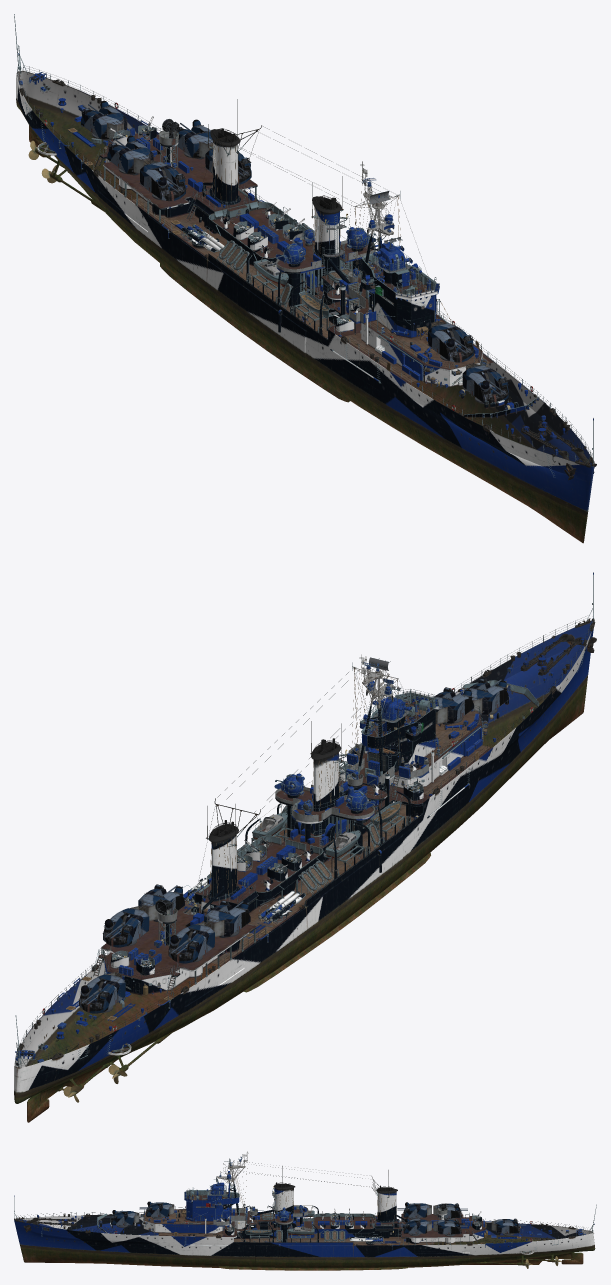
File: hms_aurora.glb
The picture shows the model from 3 angles, top to bottom: view 1: azimuth 30°, elevation 25°; view 2: azimuth 150°, elevation 25°; view 3: azimuth 270°, elevation 25°; orthographic projection. The views are drawn at different scales.
Parts seen in each view (by area): view 1: ZSC002_Huang_he_1951_bow_Huanghe_zsc002_huang_he_1951_444_0_ (×2), ZSC002_Huang_he_1951_bow_Grozovoi_rgm098_130mm_sm2_1_skinned, ZSC002_Huang_he_1951_bow_Huanghe_transparent_glass_alpha_190, ZSC002_Huang_he_1951_bow_Huanghe_zsc002_huang_he_1951_wire_4, ZSC002_Huang_he_1951_bow_Huanghe_zga051_37mm_67_v11_311_0_Hu, ZSC002_Huang_he_1951_bow_Huanghe_zm513_liferaft_type_20_10ft, ZSC002_Huang_he_1951_bow_Huanghe_zf031_svp_42_50_217_0_Huang, ZSC002_Huang_he_1951_bow_Huanghe_zf030_kdp2_4_type_sm_10_152, ZSC002_Huang_he_1951_bow_Huanghe_zgt052_533mm_torpedo_tubes_; view 2: ZSC002_Huang_he_1951_bow_Huanghe_zsc002_huang_he_1951_444_0_ (×2), ZSC002_Huang_he_1951_bow_Huanghe_transparent_glass_alpha_190, ZSC002_Huang_he_1951_bow_Grozovoi_rgm098_130mm_sm2_1_skinned, ZSC002_Huang_he_1951_bow_Huanghe_zsc002_huang_he_1951_wire_4, ZSC002_Huang_he_1951_bow_Huanghe_zga051_37mm_67_v11_311_0_Hu, ZSC002_Huang_he_1951_bow_Huanghe_zm501_captain_cutter_pr378_, ZSC002_Huang_he_1951_bow_Huanghe_zgt052_533mm_torpedo_tubes_, ZSC002_Huang_he_1951_bow_Huanghe_zf031_svp_42_50_217_0_Huang, ZSC002_Huang_he_1951_bow_Huanghe_zm700_ammunition_box_389_0_, ZSC002_Huang_he_1951_bow_Huanghe_zm513_liferaft_type_20_10ft; view 3: ZSC002_Huang_he_1951_bow_Huanghe_zsc002_huang_he_1951_444_0_ (×3), ZSC002_Huang_he_1951_bow_Grozovoi_rgm098_130mm_sm2_1_skinned, ZSC002_Huang_he_1951_bow_Huanghe_transparent_glass_alpha_190, ZSC002_Huang_he_1951_bow_Huanghe_zsc002_huang_he_1951_wire_4, ZSC002_Huang_he_1951_bow_Huanghe_zga051_37mm_67_v11_311_0_Hu, ZSC002_Huang_he_1951_bow_Huanghe_zm513_liferaft_type_20_10ft, ZSC002_Huang_he_1951_bow_Huanghe_zm501_captain_cutter_pr378_, ZSC002_Huang_he_1951_bow_Huanghe_zgt052_533mm_torpedo_tubes_, ZSC002_Huang_he_1951_bow_Huanghe_zm705_ammunition_box_627_0_, ZSC002_Huang_he_1951_bow_Huanghe_zm700_ammunition_box_389_0_.
Boxes of the visible parts, left/top/right/bottom form: ZSC002_Huang_he_1951_bow_Huanghe_zsc002_huang_he_1951_444_0_ (×2): left=14, top=15, right=594, bottom=543; ZSC002_Huang_he_1951_bow_Grozovoi_rgm098_130mm_sm2_1_skinned: left=81, top=100, right=508, bottom=404; ZSC002_Huang_he_1951_bow_Huanghe_transparent_glass_alpha_190: left=17, top=72, right=591, bottom=465; ZSC002_Huang_he_1951_bow_Huanghe_zsc002_huang_he_1951_wire_4: left=17, top=45, right=593, bottom=477; ZSC002_Huang_he_1951_bow_Huanghe_zga051_37mm_67_v11_311_0_Hu: left=108, top=116, right=354, bottom=332; ZSC002_Huang_he_1951_bow_Huanghe_zm513_liferaft_type_20_10ft: left=219, top=223, right=351, bottom=304; ZSC002_Huang_he_1951_bow_Huanghe_zf031_svp_42_50_217_0_Huang: left=275, top=227, right=376, bottom=265; ZSC002_Huang_he_1951_bow_Huanghe_zf030_kdp2_4_type_sm_10_152: left=373, top=242, right=412, bottom=271; ZSC002_Huang_he_1951_bow_Huanghe_zgt052_533mm_torpedo_tubes_: left=180, top=207, right=296, bottom=252; ZSC002_Huang_he_1951_bow_Huanghe_zsc002_huang_he_1951_444_0_ (×2): left=14, top=574, right=595, bottom=1122; ZSC002_Huang_he_1951_bow_Huanghe_transparent_glass_alpha_190: left=15, top=621, right=591, bottom=1066; ZSC002_Huang_he_1951_bow_Grozovoi_rgm098_130mm_sm2_1_skinned: left=78, top=678, right=509, bottom=1013; ZSC002_Huang_he_1951_bow_Huanghe_zsc002_huang_he_1951_wire_4: left=15, top=575, right=593, bottom=1067; ZSC002_Huang_he_1951_bow_Huanghe_zga051_37mm_67_v11_311_0_Hu: left=106, top=765, right=423, bottom=975; ZSC002_Huang_he_1951_bow_Huanghe_zm501_captain_cutter_pr378_: left=252, top=812, right=360, bottom=859; ZSC002_Huang_he_1951_bow_Huanghe_zgt052_533mm_torpedo_tubes_: left=182, top=877, right=305, bottom=926; ZSC002_Huang_he_1951_bow_Huanghe_zf031_svp_42_50_217_0_Huang: left=274, top=773, right=375, bottom=812; ZSC002_Huang_he_1951_bow_Huanghe_zm700_ammunition_box_389_0_: left=190, top=748, right=426, bottom=925; ZSC002_Huang_he_1951_bow_Huanghe_zm513_liferaft_type_20_10ft: left=237, top=791, right=380, bottom=890; ZSC002_Huang_he_1951_bow_Huanghe_zsc002_huang_he_1951_444_0_ (×3): left=14, top=1154, right=596, bottom=1270; ZSC002_Huang_he_1951_bow_Grozovoi_rgm098_130mm_sm2_1_skinned: left=104, top=1201, right=526, bottom=1236; ZSC002_Huang_he_1951_bow_Huanghe_transparent_glass_alpha_190: left=18, top=1190, right=591, bottom=1244; ZSC002_Huang_he_1951_bow_Huanghe_zsc002_huang_he_1951_wire_4: left=14, top=1151, right=594, bottom=1249; ZSC002_Huang_he_1951_bow_Huanghe_zga051_37mm_67_v11_311_0_Hu: left=225, top=1206, right=481, bottom=1235; ZSC002_Huang_he_1951_bow_Huanghe_zm513_liferaft_type_20_10ft: left=262, top=1212, right=344, bottom=1241; ZSC002_Huang_he_1951_bow_Huanghe_zm501_captain_cutter_pr378_: left=287, top=1210, right=314, bottom=1235; ZSC002_Huang_he_1951_bow_Huanghe_zgt052_533mm_torpedo_tubes_: left=349, top=1234, right=384, bottom=1244; ZSC002_Huang_he_1951_bow_Huanghe_zm705_ammunition_box_627_0_: left=335, top=1218, right=484, bottom=1228; ZSC002_Huang_he_1951_bow_Huanghe_zm700_ammunition_box_389_0_: left=252, top=1212, right=380, bottom=1226.
Size of the model in its own units: 10.74 by 22.09 by 103.
Materials: 100 (99 with a texture image).
